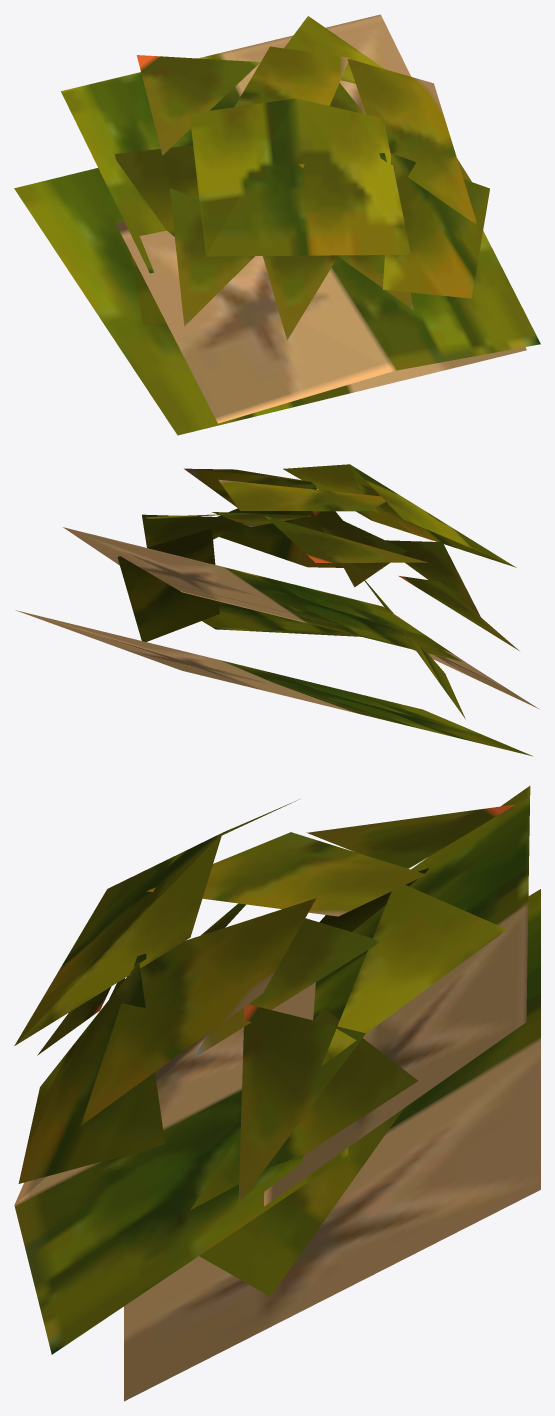
Rendered from fg_bushC_2_pi.dae.
3 renders of one model, top to bottom at view 1: azimuth 30°, elevation 25°; view 2: azimuth 150°, elevation 25°; view 3: azimuth 270°, elevation 25°, orthographic. The views are drawn at different scales.
Parts seen in each view (by area): view 1: fg_bushC_2_pi; view 2: fg_bushC_2_pi; view 3: fg_bushC_2_pi.
Boxes of the visible parts, x1,y1,x2,y2 form: fg_bushC_2_pi: (14,14,540,435); fg_bushC_2_pi: (15,464,539,756); fg_bushC_2_pi: (14,786,540,1401).
Size of the model in its own units: 47.83 by 31.21 by 35.4.
1 material, 1 textured.
